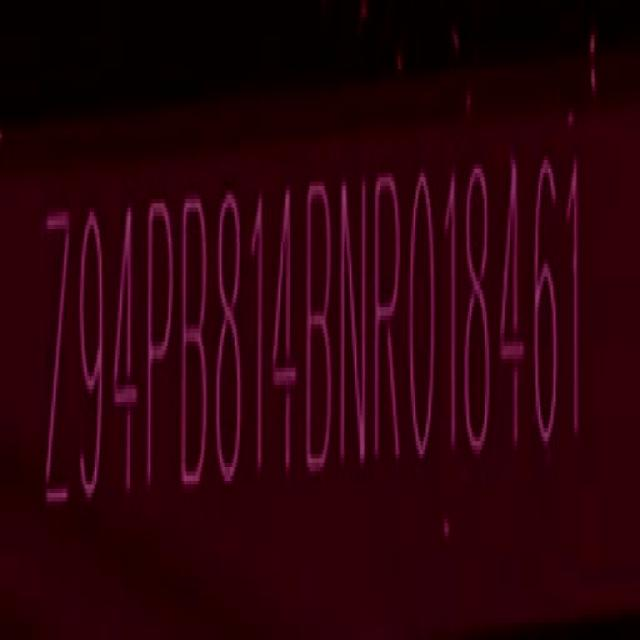0: (408, 163, 438, 465)
1: (566, 146, 587, 452), (248, 186, 266, 491), (440, 162, 458, 463)
4: (496, 155, 528, 459), (272, 182, 304, 482), (112, 201, 142, 509)
6: (532, 153, 561, 456)
8: (213, 186, 243, 490), (462, 157, 491, 460)
9: (76, 211, 109, 514)
B: (306, 174, 338, 478), (182, 193, 213, 499)
N: (341, 172, 372, 475)
P: (142, 192, 176, 504)
R: (373, 165, 408, 473)
Z: (43, 209, 75, 524)
